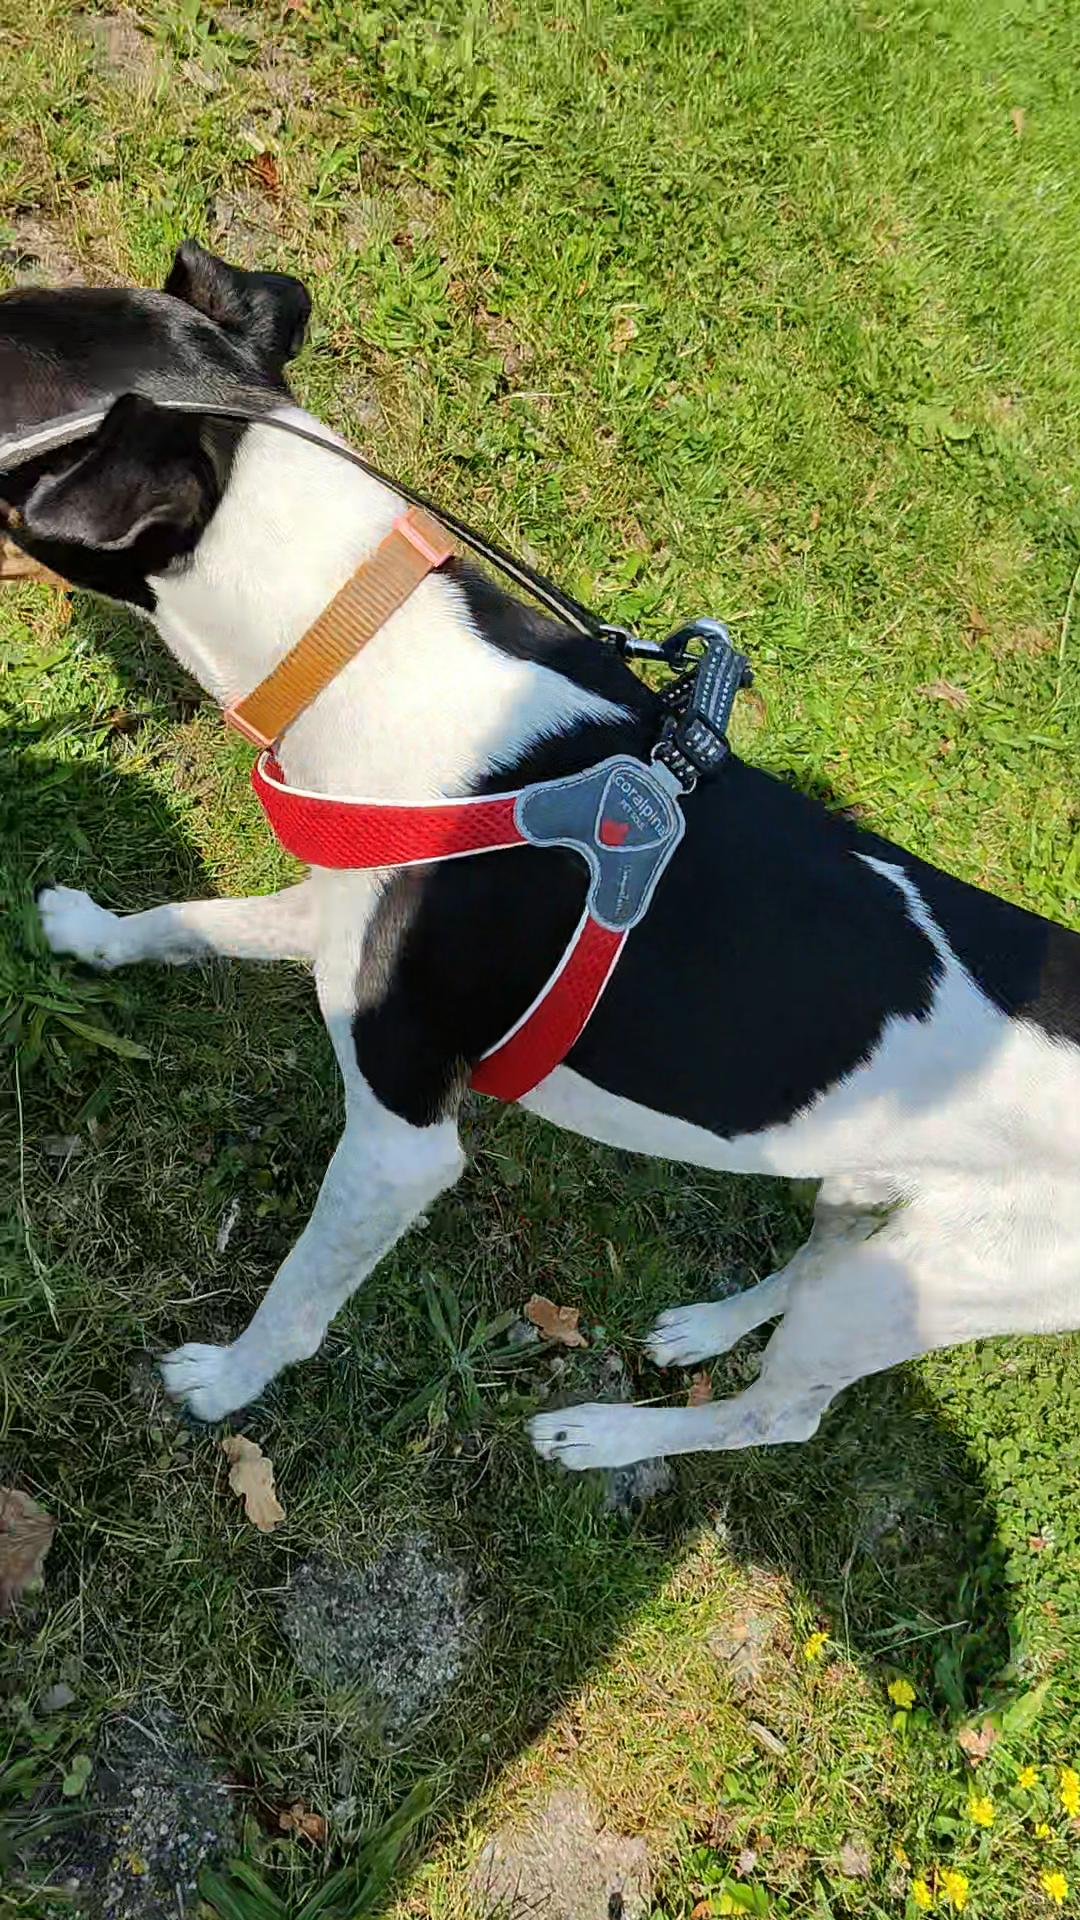Dog: (0, 228, 1079, 1485)
